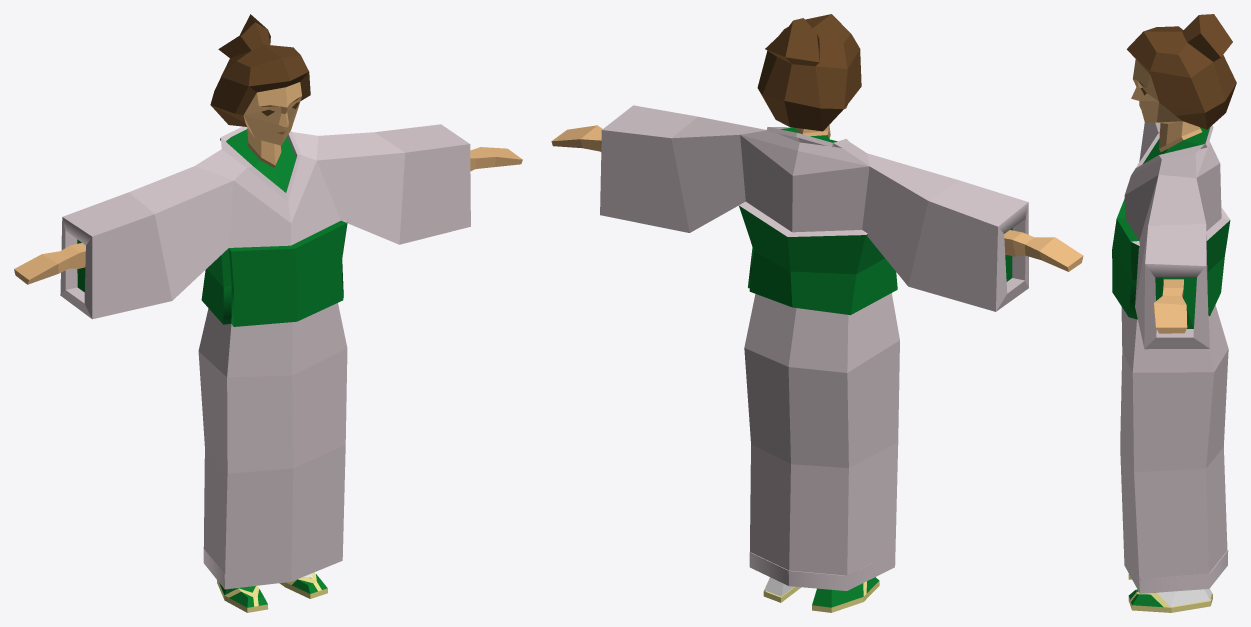
Rendered from NPC.fbx.
3 views of the same model, side by side, from view 1: azimuth 30°, elevation 25°; view 2: azimuth 150°, elevation 25°; view 3: azimuth 270°, elevation 25° (orthographic). The views are drawn at different scales.
Visible parts, largest first — view 1: NPC, Cinta, Pelo, Cara, ManoIZ, Cuello, ManoDe; view 2: NPC, Cinta, Pelo, ManoIZ, ManoDe; view 3: NPC, Pelo, Cinta, Cara, ManoDe, MangaDe, NPC.003, Cuello.
Boxes of the visible parts, left/top/right/bottom form: NPC: left=60, top=58, right=470, bottom=612; Cinta: left=201, top=220, right=347, bottom=326; Pelo: left=210, top=14, right=310, bottom=126; Cara: left=243, top=82, right=301, bottom=167; ManoIZ: left=14, top=243, right=85, bottom=284; Cuello: left=226, top=129, right=296, bottom=192; ManoDe: left=470, top=147, right=522, bottom=171; NPC: left=600, top=105, right=1028, bottom=612; Cinta: left=739, top=205, right=897, bottom=315; Pelo: left=757, top=14, right=861, bottom=131; ManoIZ: left=1004, top=230, right=1083, bottom=271; ManoDe: left=551, top=125, right=602, bottom=151; NPC: left=1120, top=122, right=1230, bottom=612; Pelo: left=1127, top=14, right=1236, bottom=129; Cinta: left=1112, top=199, right=1230, bottom=319; Cara: left=1131, top=59, right=1202, bottom=151; ManoDe: left=1154, top=279, right=1187, bottom=327; MangaDe: left=1155, top=277, right=1196, bottom=328; NPC.003: left=1157, top=588, right=1211, bottom=606; Cuello: left=1143, top=127, right=1209, bottom=163.
Size of the model in its own units: 154 by 167 by 32.55.
